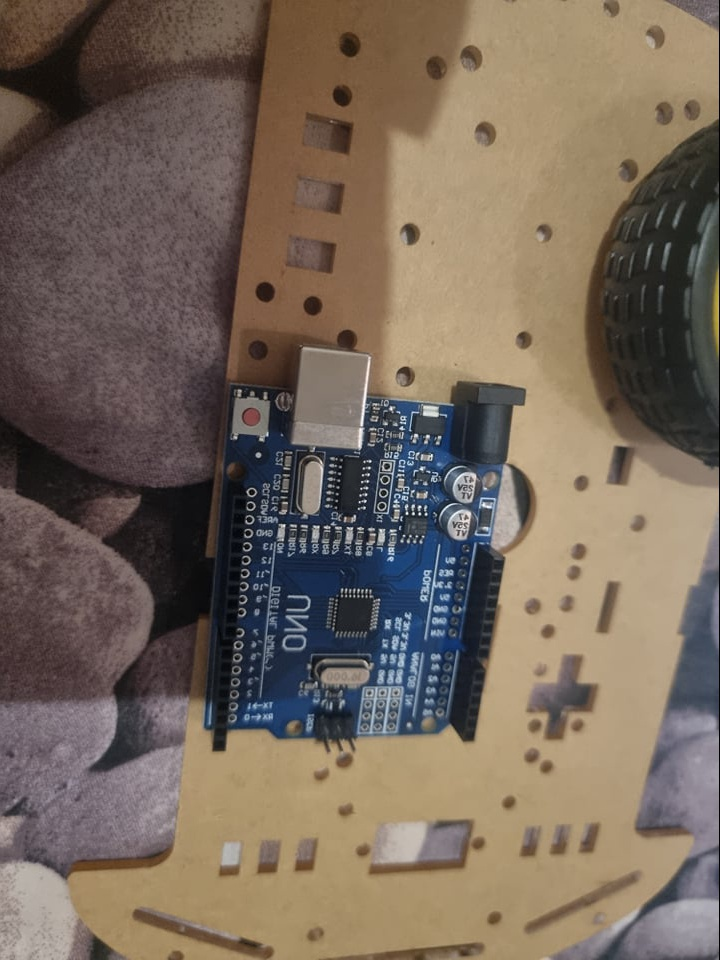UNO R3: (203, 344, 529, 742)
